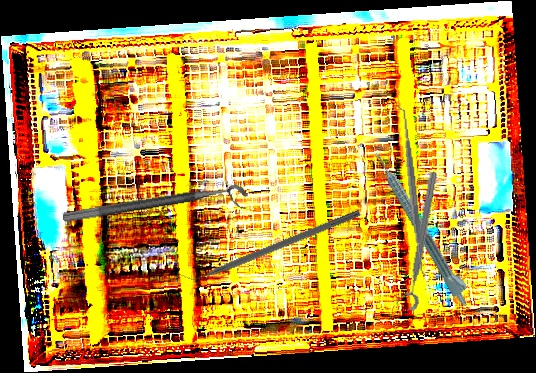Chopper: (176, 199, 362, 289)
Fixation Ring: (62, 182, 250, 238), (394, 169, 442, 312)
Handpiece: (371, 146, 477, 309)
Spatula Surgical: (394, 103, 431, 278)
